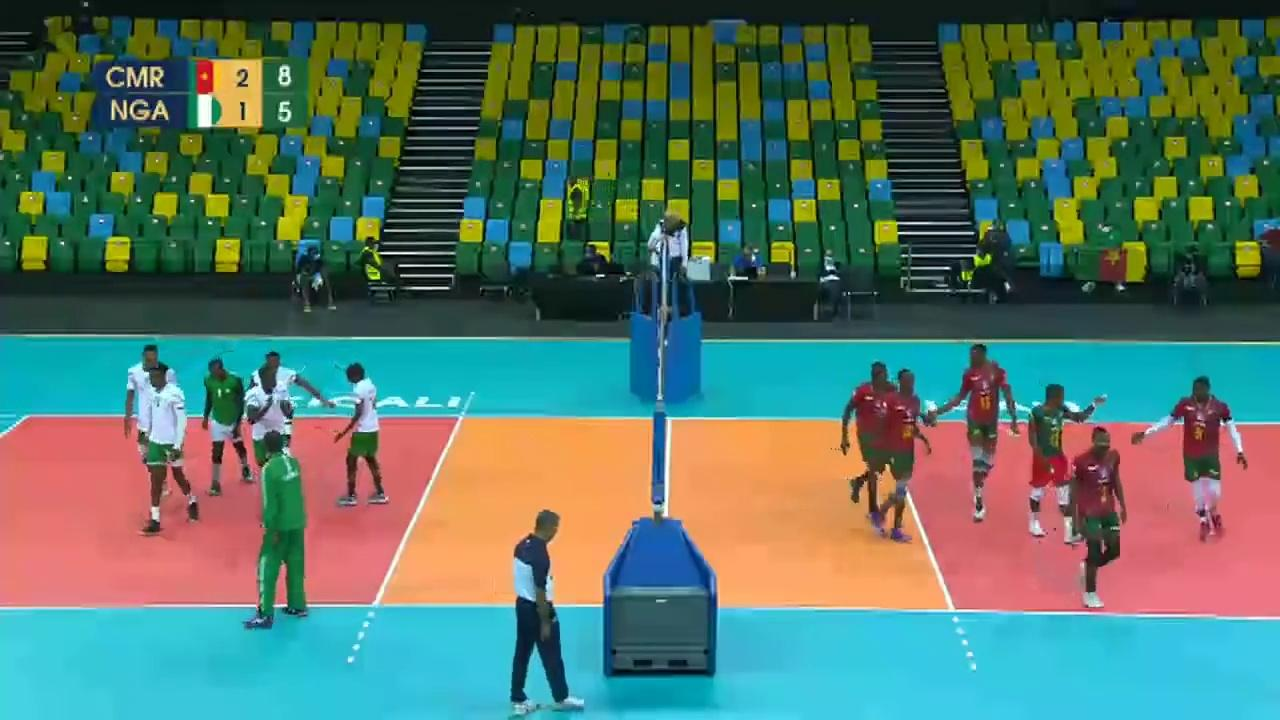player: (928, 339, 1027, 530), (1146, 373, 1244, 546), (1067, 426, 1130, 606), (1026, 383, 1100, 534), (142, 359, 201, 536), (841, 353, 901, 519), (251, 344, 315, 485), (890, 369, 936, 549), (121, 340, 174, 496), (335, 365, 390, 505), (251, 366, 296, 516), (199, 358, 248, 488)
refree: (512, 512, 581, 709), (640, 203, 697, 315)
